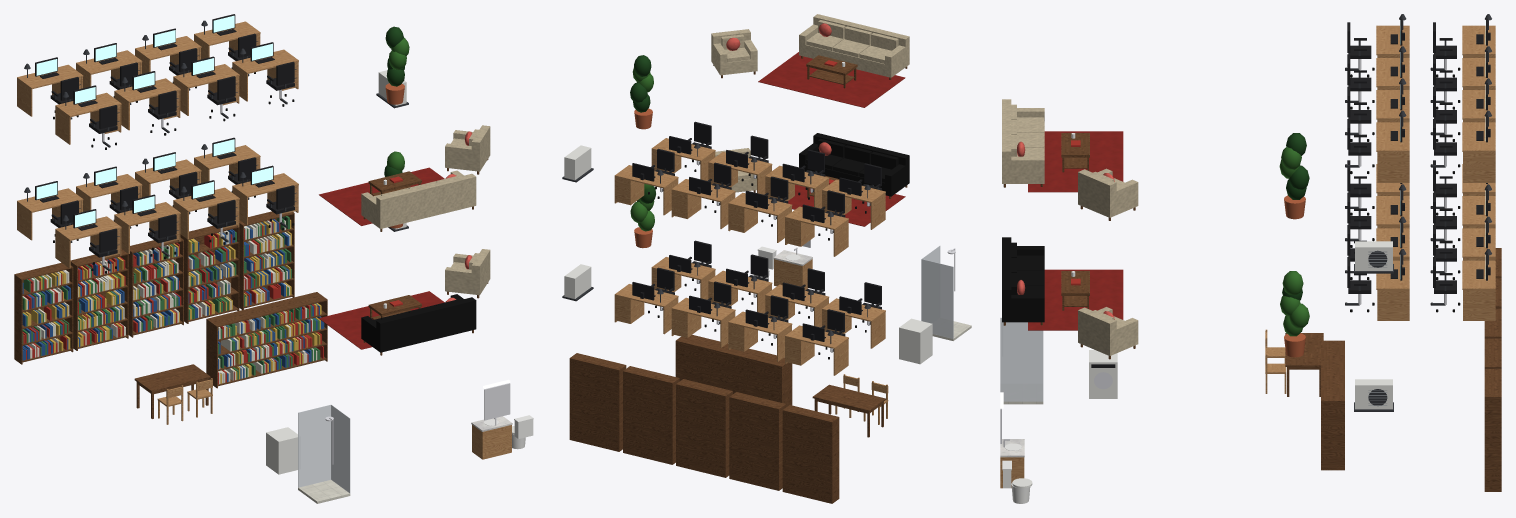
The model's file is i_manga_netcafe.gltf.
3 renders of one model, left to right at view 1: azimuth 30°, elevation 25°; view 2: azimuth 150°, elevation 25°; view 3: azimuth 270°, elevation 25°, orthographic. The views are drawn at different scales.
Visible parts, largest first — view 1: I_manga_netcafe; view 2: I_manga_netcafe; view 3: I_manga_netcafe.
Boxes of the visible parts, x1,y1,x2,y2 form: I_manga_netcafe: (14, 14, 533, 503); I_manga_netcafe: (562, 14, 971, 503); I_manga_netcafe: (1000, 14, 1501, 503).
Bounding box in the file's own units: 8.91 × 8.51 × 10.52.
Materials: 27 (8 with a texture image).
